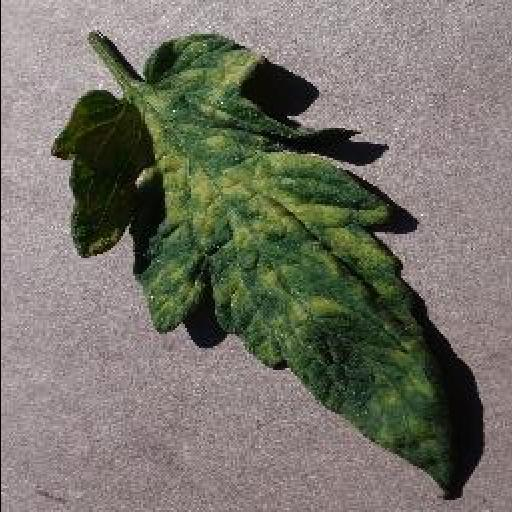disease_tomato: (51, 32, 465, 498)
